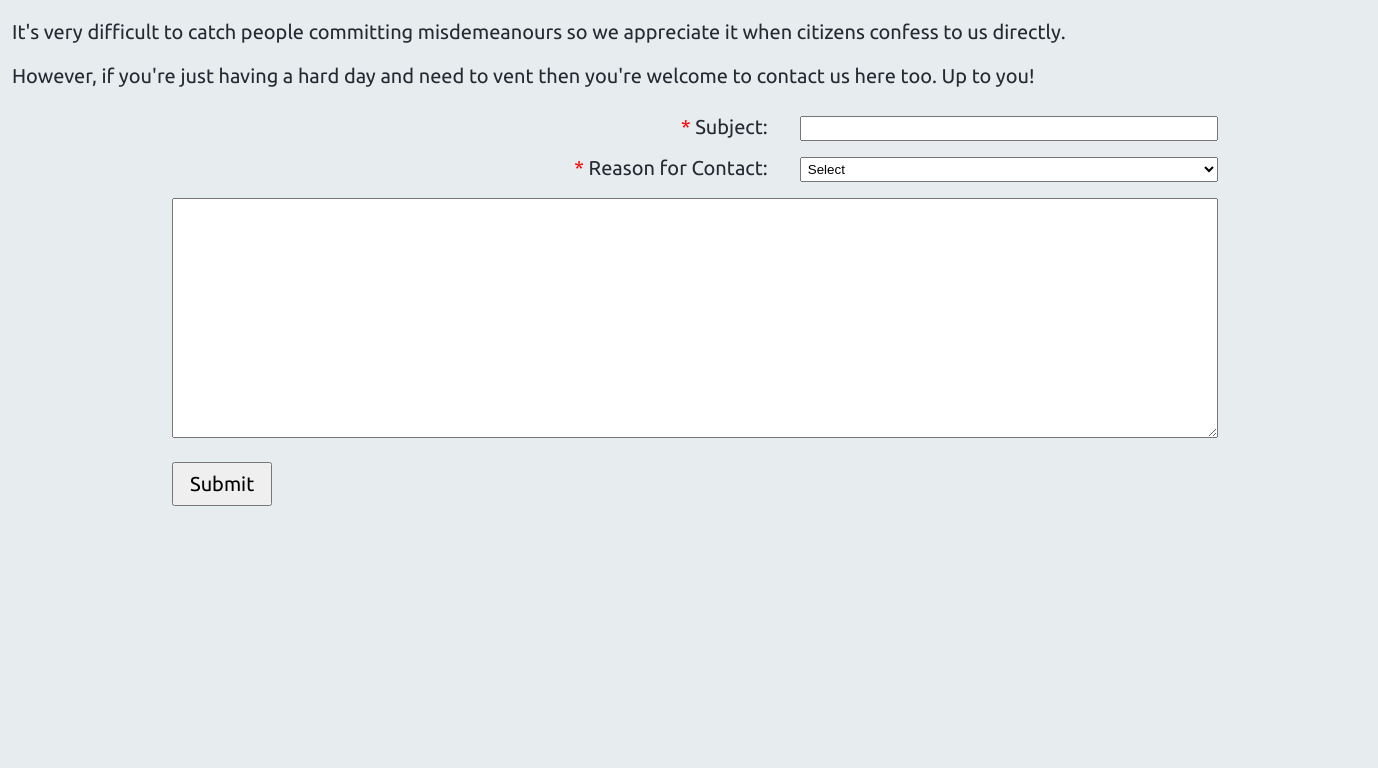
<Confession> › Given all data is valid and Just Talk is selected,         When submit button is pressed,         then just talk message is shown
Type "Pottery inquiry" into the field labelled "Subject:" at (1009, 128), box [800,116,1218,141]
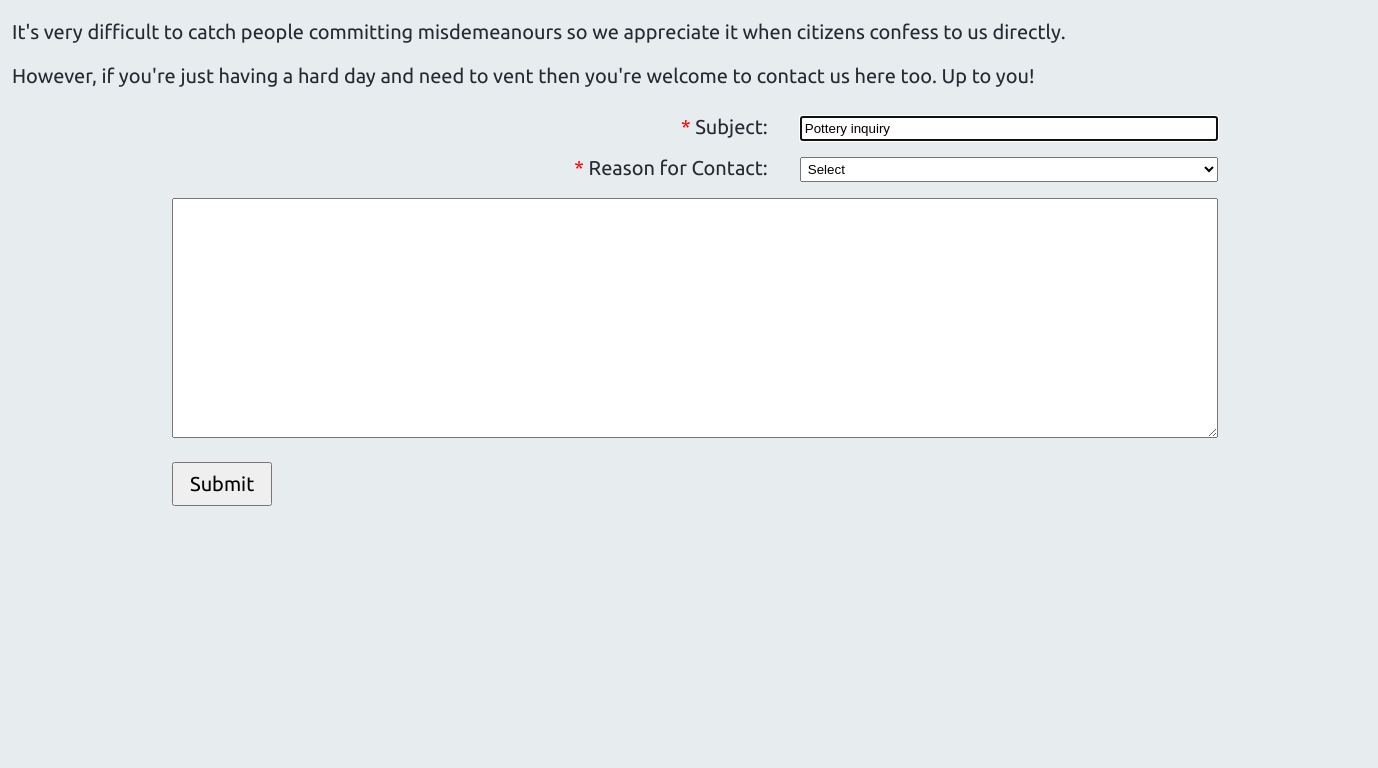
Select "I just want to talk" in the dropdown labelled "Reason for Contact:" at (1009, 170), box [800,157,1218,182]
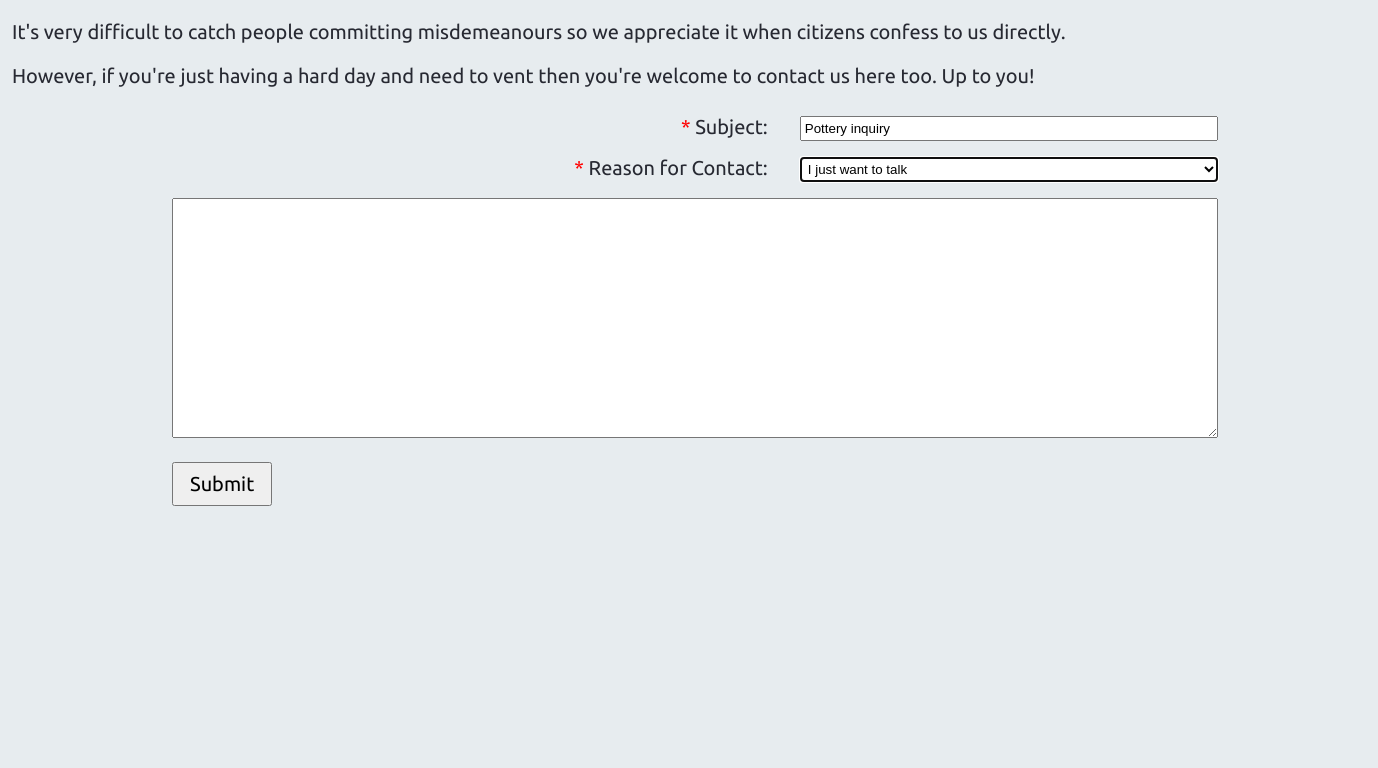
Type "Did you see this week's Pottery Throwdown?" into the text box named "confession detail" at (695, 318), box [172,198,1218,438]
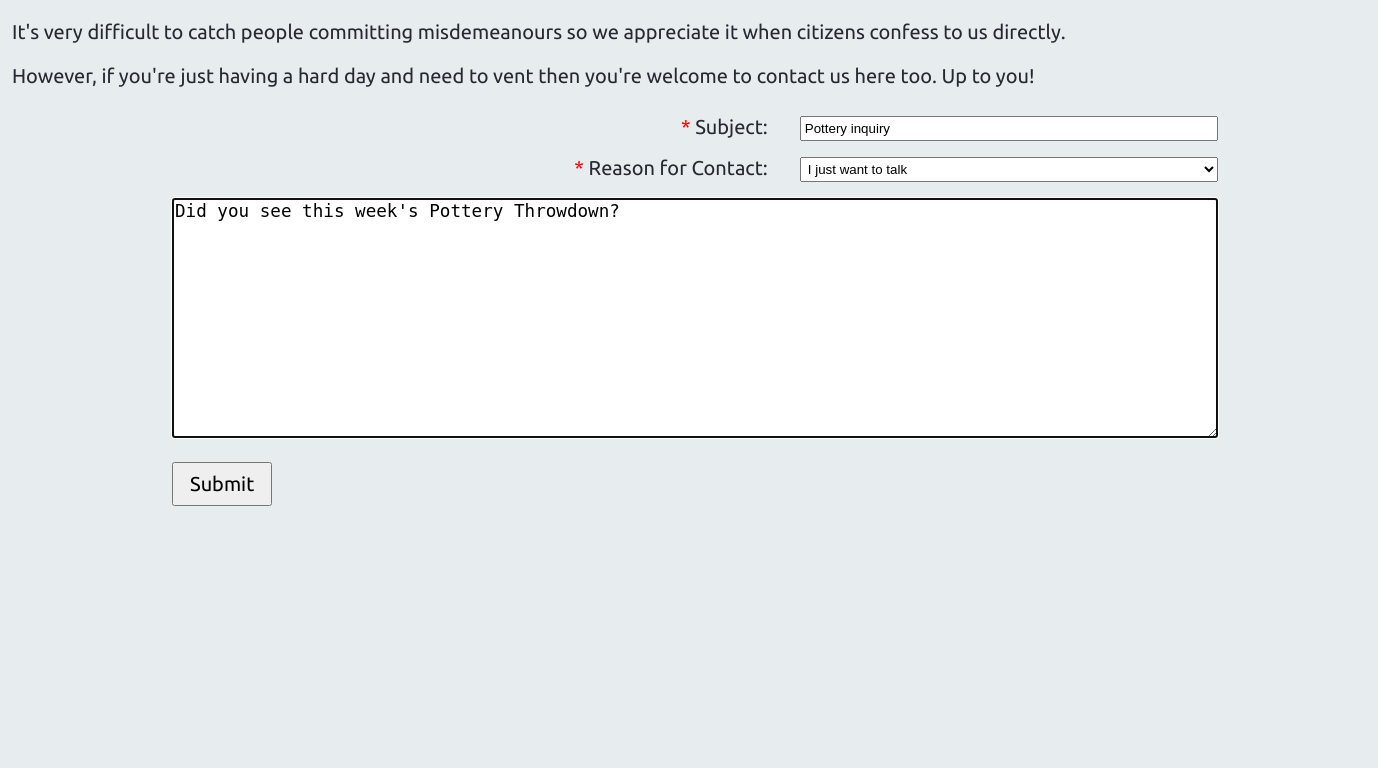
Click the button labelled "Submit" at (222, 484), box [172,462,272,506]
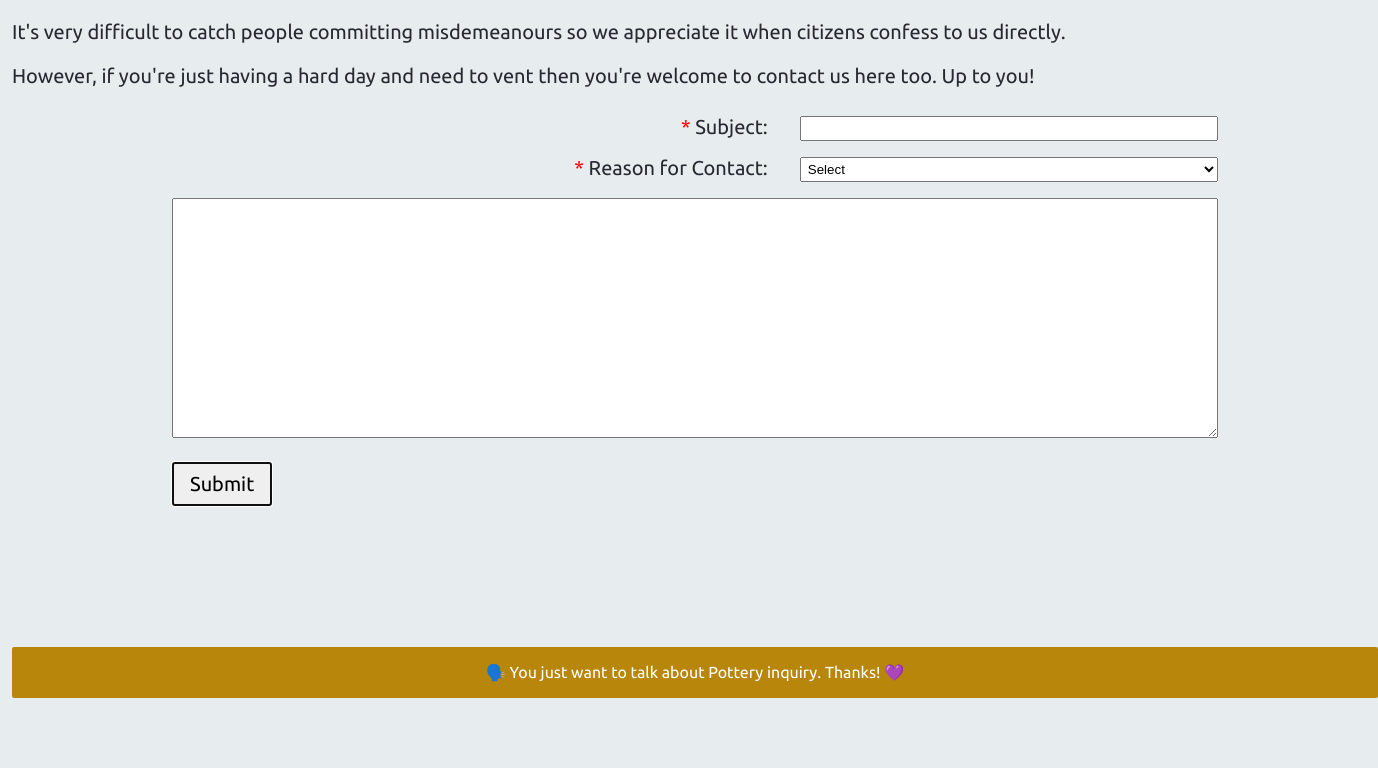
Now the field labelled "Subject:" is empty, box [800,116,1218,141]
Now the text box named "confession detail" is empty, box [172,198,1218,438]
Now the text "🗣️ You just want to talk about Pottery inquiry. Thanks! 💜" is shown, box [12,647,1377,698]
